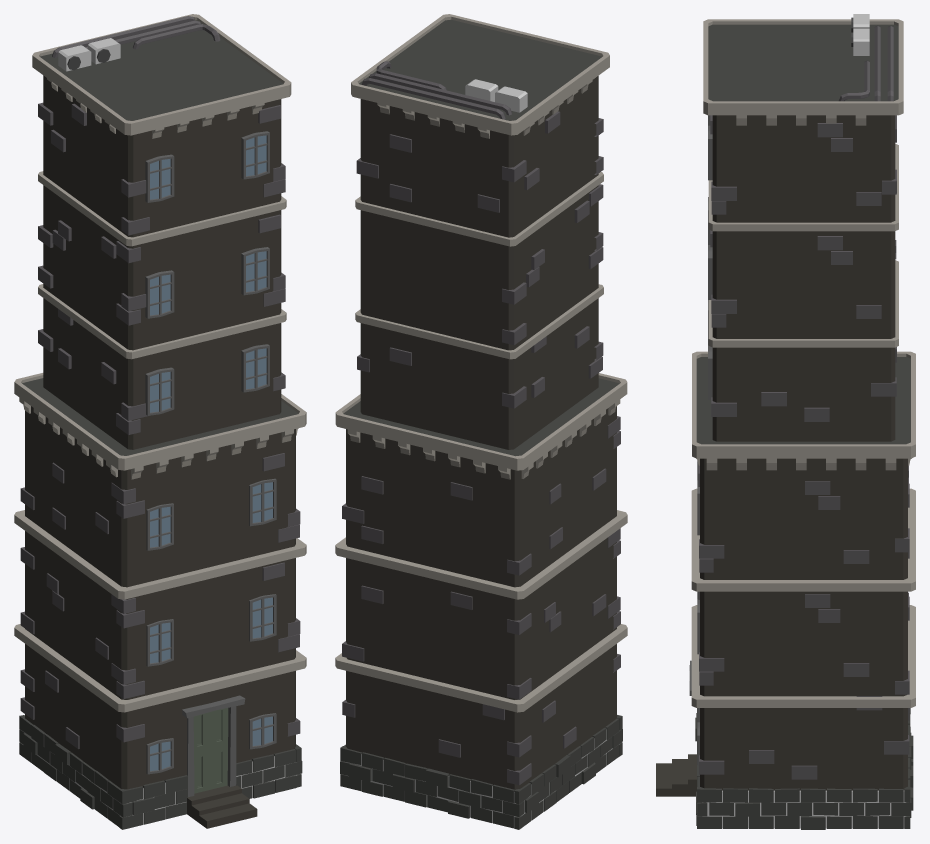
Rendered from 6Story_Balcony.glb.
3 views of the same model, side by side, from view 1: azimuth 30°, elevation 25°; view 2: azimuth 150°, elevation 25°; view 3: azimuth 270°, elevation 25° (orthographic). The views are drawn at different scales.
Parts seen in each view (by area): view 1: 6Story_Stack; view 2: 6Story_Stack; view 3: 6Story_Stack.
Boxes of the visible parts, x1,y1,x2,y2 form: 6Story_Stack: (14,14,306,829); 6Story_Stack: (335,14,627,829); 6Story_Stack: (656,14,915,829).
Bounding box in the file's own units: 2.16 × 7.8 × 2.5.
1 material, 1 textured.
